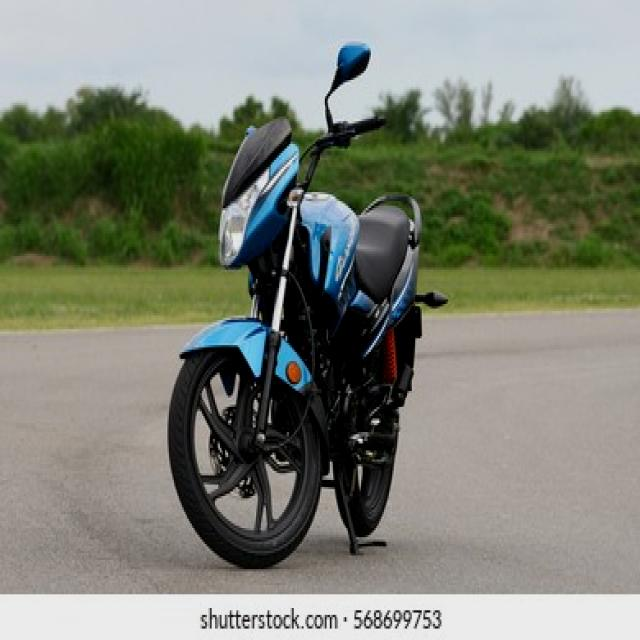MOTORCYCLE: (165, 78, 442, 565)
